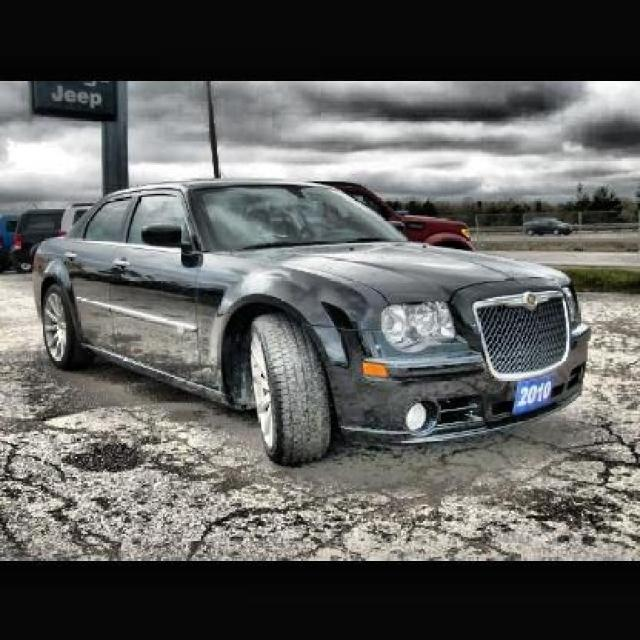black: (30, 172, 590, 453)
